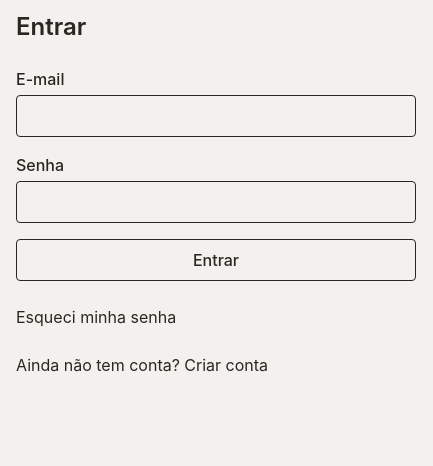
it: fluxo senha, código, entrada no app (AUTH-01, AUTH-04) › código errado (401) não sai da tela do código e não vai para a sessão expirada
This screenshot has width=433, height=466.
Type "ana@exemplo.com.br" into the field labelled "E-mail" at x=216, y=116, box [16, 95, 416, 137]
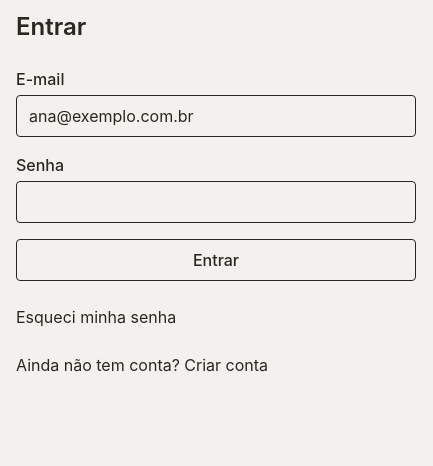
Type "cavalo-bateria-grampo-7" into the password field labelled "Senha" at x=216, y=202, box [16, 181, 416, 223]
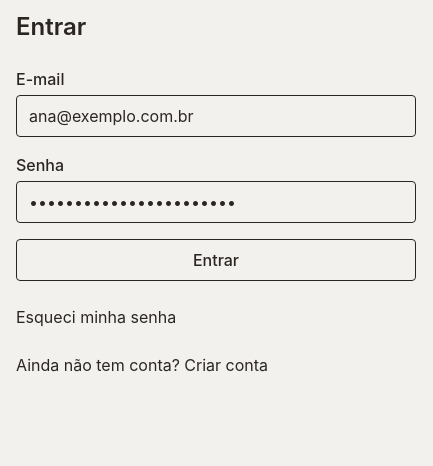
Click the button "Entrar" at x=216, y=260, box [16, 239, 416, 281]
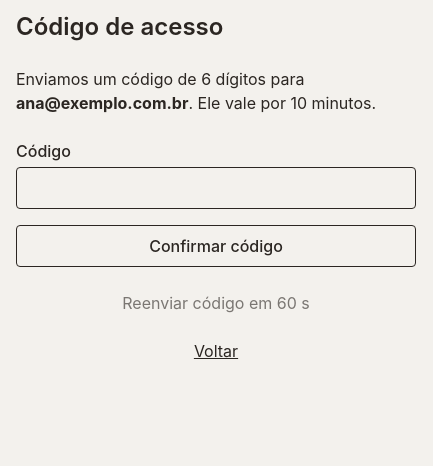
Type "000000" into the field labelled "Código" at x=216, y=188, box [16, 167, 416, 209]
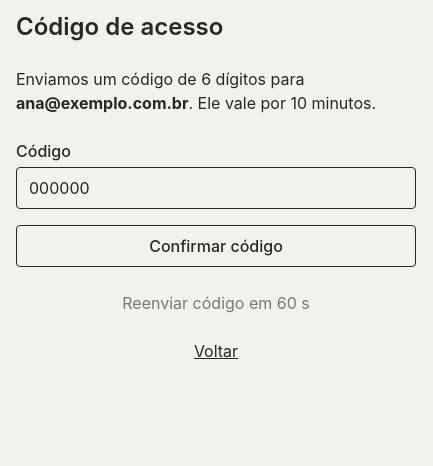
Click the button "Confirmar código" at x=216, y=246, box [16, 225, 416, 267]
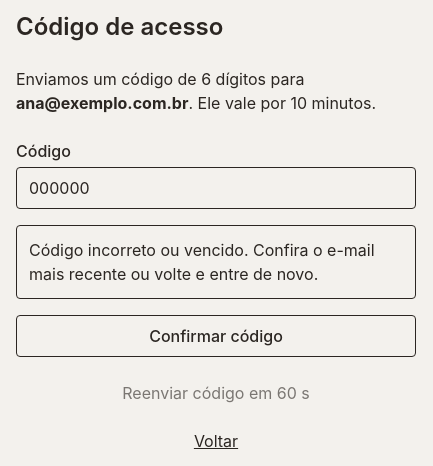
Now the message shows "Código incorreto ou vencido", box [29, 240, 375, 284]
